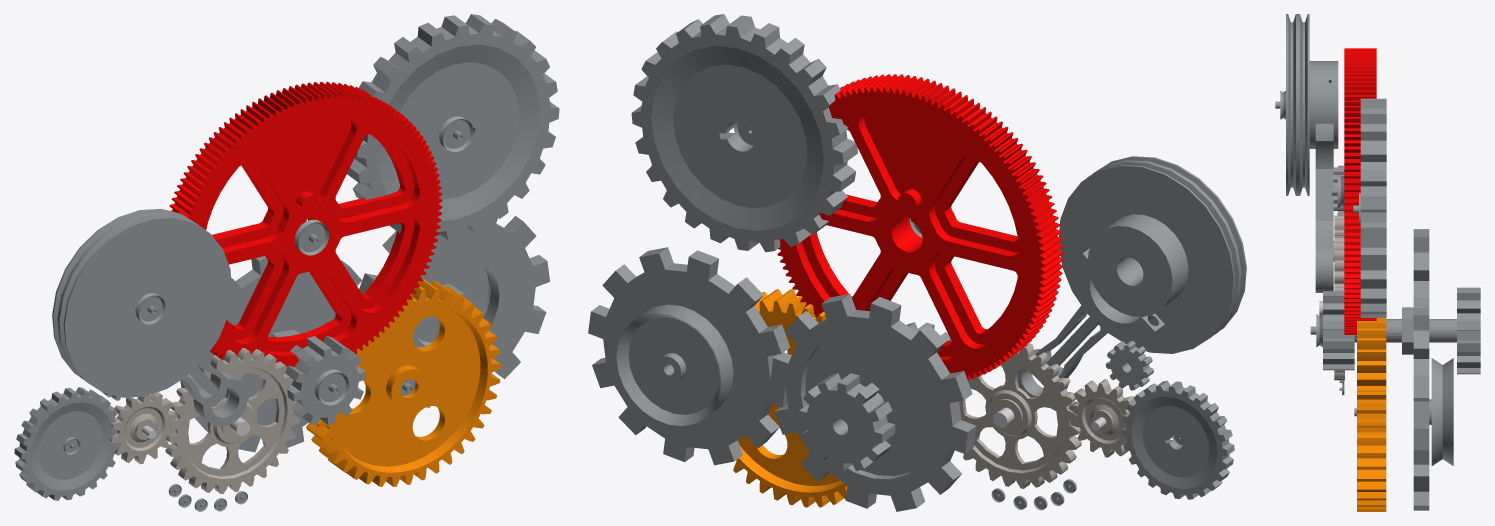
File: chaplin_machine.obj
3 views of the same model, side by side, from view 1: azimuth 30°, elevation 25°; view 2: azimuth 150°, elevation 25°; view 3: azimuth 270°, elevation 25° (orthographic). The views are drawn at different scales.
Visible parts, largest first — view 1: Mesh5 Agrupar_1 NONAME_0_dwg1 Component1 Component_8_1 Model, Mesh15 cog2 Component_8_1 Model, Mesh17 Group1 pulley1 Component_8_1 Model, Mesh13 Support_interrupteur_On_Off_On_unipolaire1 Component_8_1 , Mesh9 Gears_1_1 Component_8_1 Model, Mesh22 Roue_28dents Eng_d14_d28_a1_1 Component_8_1 Model, Mesh4 cog1 Component_8_1 Model, Mesh23 Roue_14dents Eng_d14_d28_a1_1 Component_8_1 Model, Mesh16 Connecting_Rod_Top1 Component_8_1 Model, Mesh12 trinse8 trinse_1_8 Component_8_1 Model, Mesh1 trinse1 trinse_1_1 Component_8_1 Model, Mesh2 trinse2 trinse_1_2 Component_8_1 Model (+2 smaller); view 2: Mesh9 Gears_1_1 Component_8_1 Model, Mesh5 Agrupar_1 NONAME_0_dwg1 Component1 Component_8_1 Model, Mesh15 cog2 Component_8_1 Model, Mesh17 Group1 pulley1 Component_8_1 Model, Mesh12 trinse8 trinse_1_8 Component_8_1 Model, Mesh4 cog1 Component_8_1 Model, Mesh22 Roue_28dents Eng_d14_d28_a1_1 Component_8_1 Model, Mesh13 Support_interrupteur_On_Off_On_unipolaire1 Component_8_1 , Mesh16 Connecting_Rod_Top1 Component_8_1 Model, Mesh23 Roue_14dents Eng_d14_d28_a1_1 Component_8_1 Model, Mesh10 engrane1 Component_8_1 Model; view 3: Mesh9 Gears_1_1 Component_8_1 Model, Mesh17 Group1 pulley1 Component_8_1 Model, Mesh15 cog2 Component_8_1 Model, Mesh13 Support_interrupteur_On_Off_On_unipolaire1 Component_8_1 , Mesh5 Agrupar_1 NONAME_0_dwg1 Component1 Component_8_1 Model, Mesh16 Connecting_Rod_Top1 Component_8_1 Model, Mesh12 trinse8 trinse_1_8 Component_8_1 Model, Mesh22 Roue_28dents Eng_d14_d28_a1_1 Component_8_1 Model, Mesh1 trinse1 trinse_1_1 Component_8_1 Model, Mesh23 Roue_14dents Eng_d14_d28_a1_1 Component_8_1 Model, Mesh2 trinse2 trinse_1_2 Component_8_1 Model, Mesh10 engrane1 Component_8_1 Model.
Boxes of the visible parts, <box> form: Mesh5 Agrupar_1 NONAME_0_dwg1 Component1 Component_8_1 Model: <box>169,81,442,375</box>; Mesh15 cog2 Component_8_1 Model: <box>347,14,559,240</box>; Mesh17 Group1 pulley1 Component_8_1 Model: <box>52,209,232,397</box>; Mesh13 Support_interrupteur_On_Off_On_unipolaire1 Component_8_1 : <box>306,278,501,486</box>; Mesh9 Gears_1_1 Component_8_1 Model: <box>180,214,549,452</box>; Mesh22 Roue_28dents Eng_d14_d28_a1_1 Component_8_1 Model: <box>165,348,300,493</box>; Mesh4 cog1 Component_8_1 Model: <box>14,387,117,500</box>; Mesh23 Roue_14dents Eng_d14_d28_a1_1 Component_8_1 Model: <box>109,392,177,464</box>; Mesh16 Connecting_Rod_Top1 Component_8_1 Model: <box>181,360,247,426</box>; Mesh12 trinse8 trinse_1_8 Component_8_1 Model: <box>414,260,490,345</box>; Mesh1 trinse1 trinse_1_1 Component_8_1 Model: <box>294,219,329,255</box>; Mesh2 trinse2 trinse_1_2 Component_8_1 Model: <box>314,369,349,405</box>; Mesh9 Gears_1_1 Component_8_1 Model: <box>588,247,976,511</box>; Mesh5 Agrupar_1 NONAME_0_dwg1 Component1 Component_8_1 Model: <box>777,74,1063,380</box>; Mesh15 cog2 Component_8_1 Model: <box>631,14,857,252</box>; Mesh17 Group1 pulley1 Component_8_1 Model: <box>1058,156,1246,353</box>; Mesh12 trinse8 trinse_1_8 Component_8_1 Model: <box>616,304,733,426</box>; Mesh4 cog1 Component_8_1 Model: <box>1121,380,1234,499</box>; Mesh22 Roue_28dents Eng_d14_d28_a1_1 Component_8_1 Model: <box>959,343,1081,488</box>; Mesh13 Support_interrupteur_On_Off_On_unipolaire1 Component_8_1 : <box>733,289,847,507</box>; Mesh16 Connecting_Rod_Top1 Component_8_1 Model: <box>1017,248,1164,397</box>; Mesh23 Roue_14dents Eng_d14_d28_a1_1 Component_8_1 Model: <box>1069,379,1134,457</box>; Mesh10 engrane1 Component_8_1 Model: <box>1105,341,1153,390</box>; Mesh9 Gears_1_1 Component_8_1 Model: <box>1323,229,1480,510</box>; Mesh17 Group1 pulley1 Component_8_1 Model: <box>1286,14,1338,195</box>; Mesh15 cog2 Component_8_1 Model: <box>1360,98,1386,317</box>; Mesh13 Support_interrupteur_On_Off_On_unipolaire1 Component_8_1 : <box>1357,318,1386,511</box>; Mesh5 Agrupar_1 NONAME_0_dwg1 Component1 Component_8_1 Model: <box>1344,48,1376,334</box>; Mesh16 Connecting_Rod_Top1 Component_8_1 Model: <box>1315,123,1333,292</box>; Mesh12 trinse8 trinse_1_8 Component_8_1 Model: <box>1429,358,1453,465</box>; Mesh22 Roue_28dents Eng_d14_d28_a1_1 Component_8_1 Model: <box>1319,236,1344,380</box>; Mesh1 trinse1 trinse_1_1 Component_8_1 Model: <box>1332,175,1344,207</box>; Mesh23 Roue_14dents Eng_d14_d28_a1_1 Component_8_1 Model: <box>1333,215,1344,261</box>; Mesh2 trinse2 trinse_1_2 Component_8_1 Model: <box>1310,314,1322,347</box>; Mesh10 engrane1 Component_8_1 Model: <box>1333,167,1344,210</box>.
Size of the model in its own units: 490 by 365 by 163.
